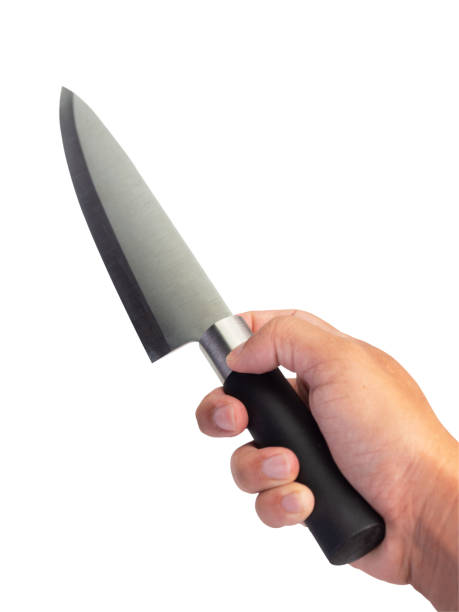knife: (59, 88, 388, 567)
